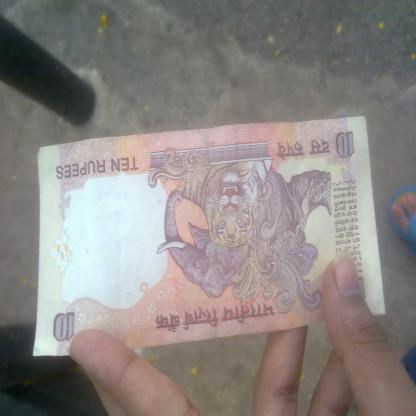Old10Back: (33, 115, 386, 357)
